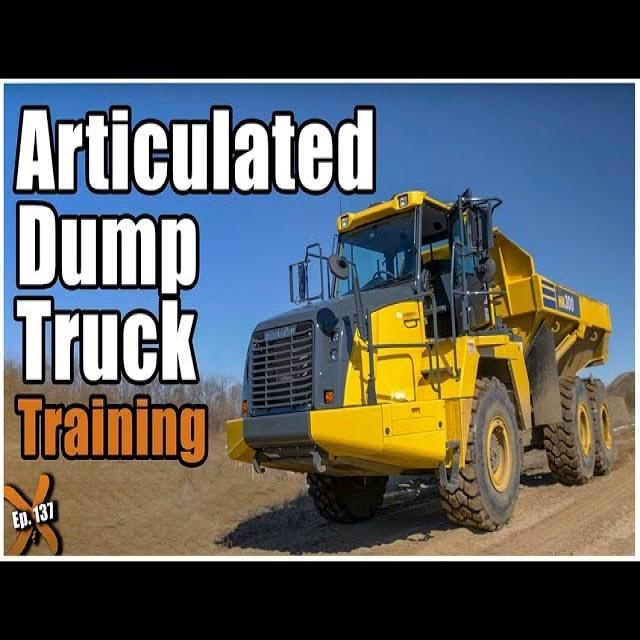dump_truck: (226, 191, 621, 538)
